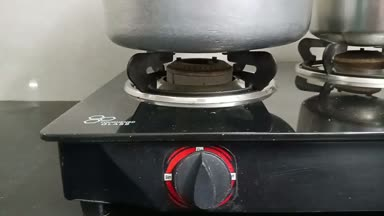noflame_gason: (113, 45, 290, 212)
